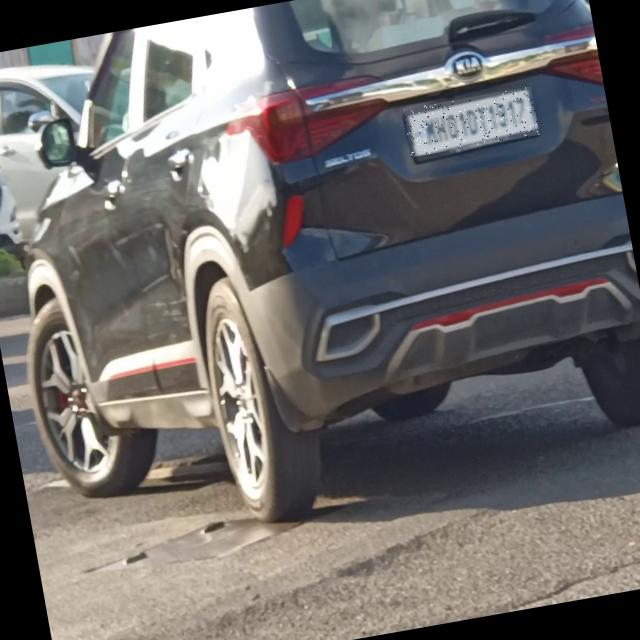Plate: (404, 87, 541, 158)
